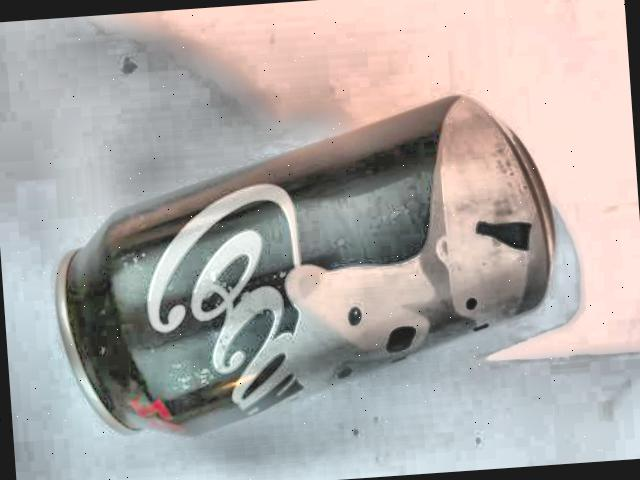Bottles: (38, 75, 574, 460)
